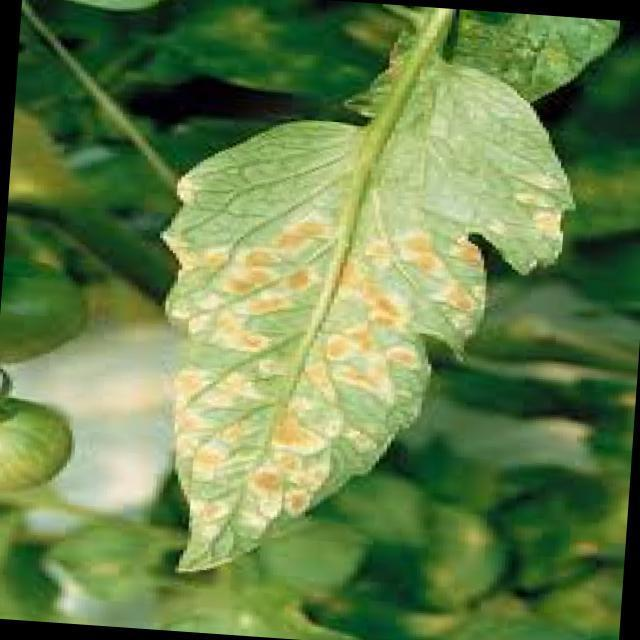Mosaic Virus: (128, 138, 556, 586)
